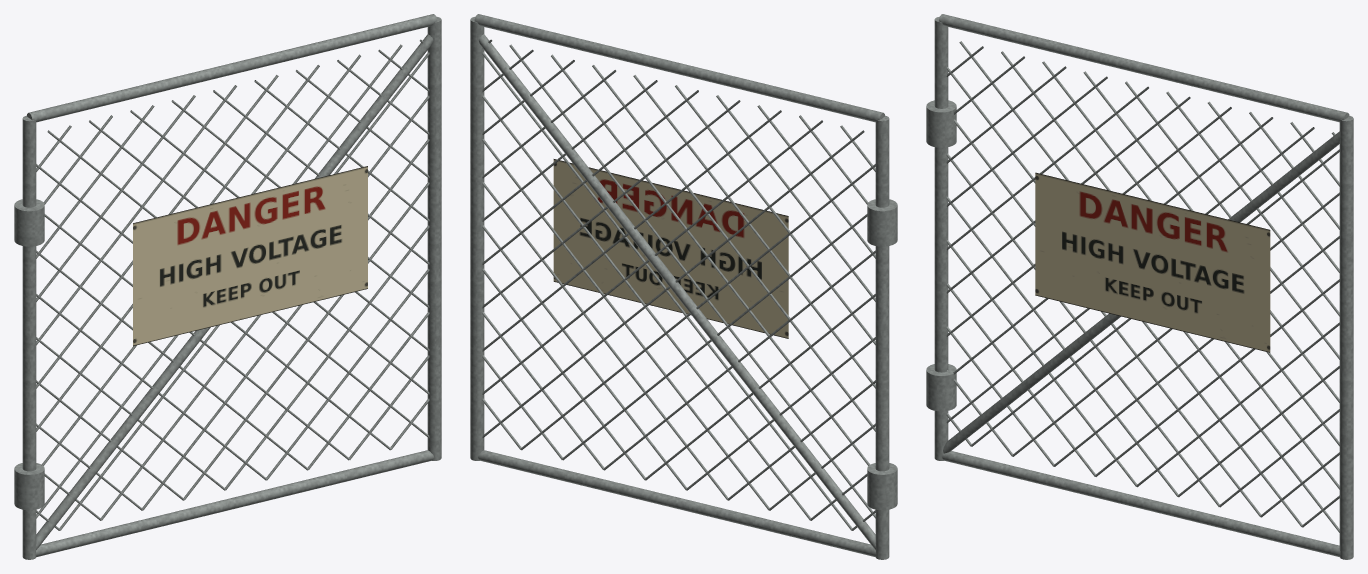
File: SM_Substation_Gate_L.fbx
The picture shows the model from 3 angles, left to right: view 1: azimuth 30°, elevation 25°; view 2: azimuth 150°, elevation 25°; view 3: azimuth 330°, elevation 25°; orthographic projection.
Visible parts, largest first — view 1: SM_Substation_Gate_L; view 2: SM_Substation_Gate_L; view 3: SM_Substation_Gate_L.
Part boxes in pixels (x1,y1,x2,y2): SM_Substation_Gate_L: (14,14,441,559); SM_Substation_Gate_L: (470,14,897,559); SM_Substation_Gate_L: (926,14,1353,559).
Bounding box in the file's own units: 2.26 × 0.14 × 2.26.
